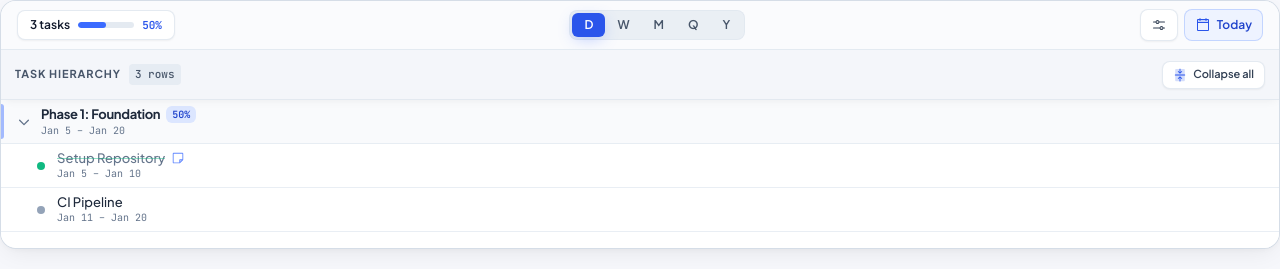
GanttWorkspace unified split-pane alignment › shows a Collapse all / Expand all button in the mobile Tasks tab header and toggles all groups
Expected: the text "3 rows" is shown, [129,64,180,85]
Click the button with aria-label "collapse all groups".
click(1214, 74)  # box [1162,60,1265,88]
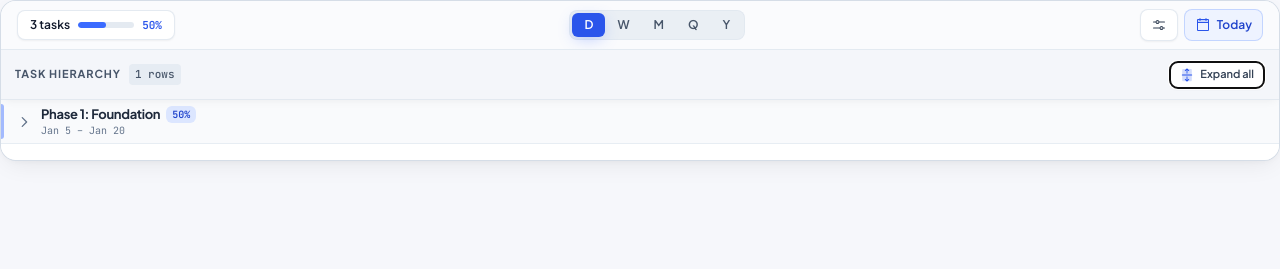
Result: the text "1 rows" is shown at [129,64,180,85]
Result: the text "Setup Repository" is gone
Result: the button with aria-label "expand all groups" is shown
Click the button with aria-label "expand all groups".
click(1217, 74)  # box [1169,60,1265,88]
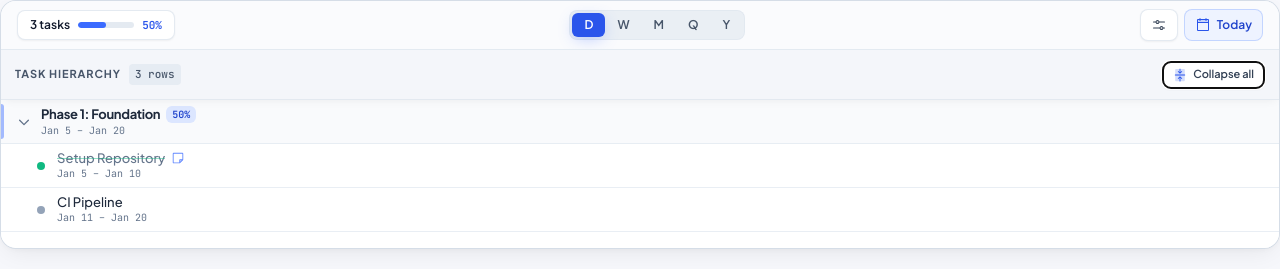
Result: the text "3 rows" is shown at [129,64,180,85]
Result: the text "Setup Repository" is shown at [57,150,165,166]
